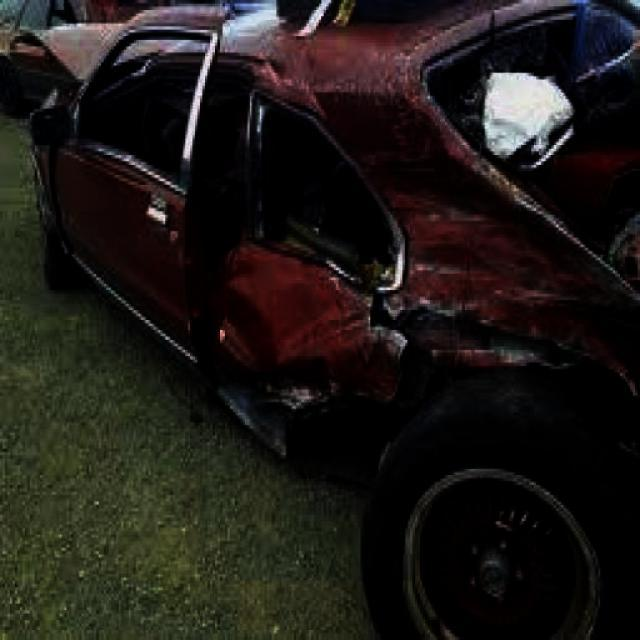car damage: (217, 9, 639, 440)
